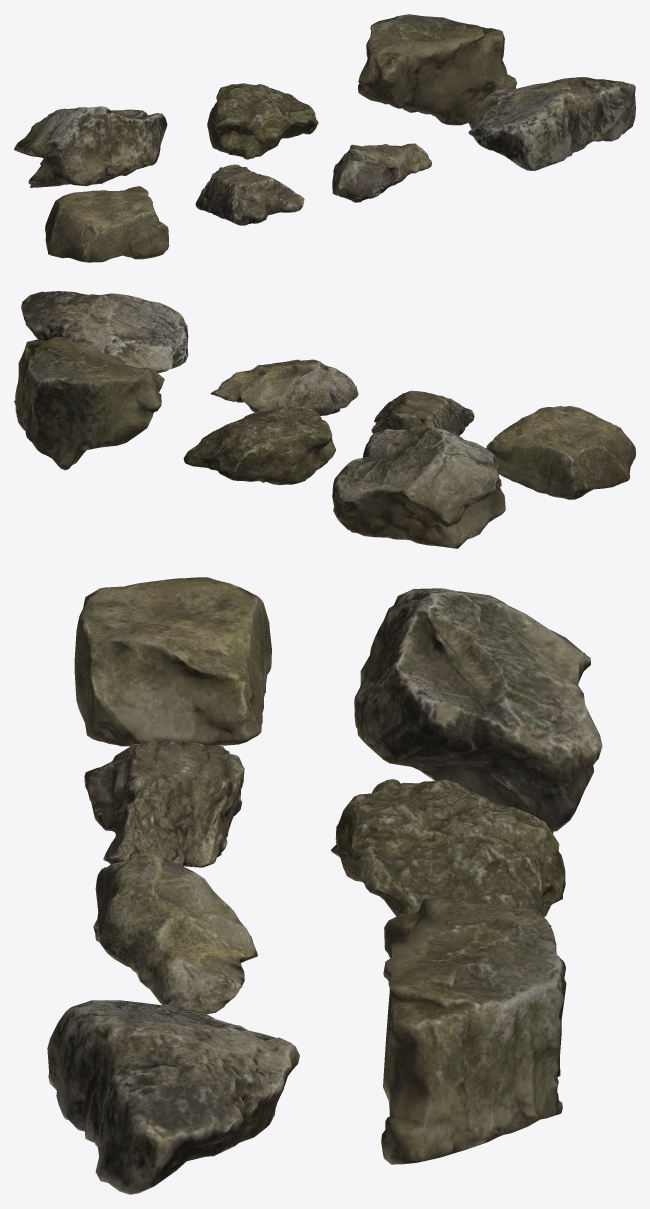
Rendered from rock_moss_set_02.glb.
3 renders of one model, top to bottom at view 1: azimuth 30°, elevation 25°; view 2: azimuth 150°, elevation 25°; view 3: azimuth 270°, elevation 25°, orthographic. The views are drawn at different scales.
Visible parts, largest first — view 1: rock_moss_set_02_rock13, rock_moss_set_02_rock10, rock_moss_set_02_rock11, rock_moss_set_02_rock07, rock_moss_set_02_rock12, rock_moss_set_02_rock08, rock_moss_set_02_rock09; view 2: rock_moss_set_02_rock11, rock_moss_set_02_rock13, rock_moss_set_02_rock07, rock_moss_set_02_rock10, rock_moss_set_02_rock12, rock_moss_set_02_rock09, rock_moss_set_02_rock08; view 3: rock_moss_set_02_rock13, rock_moss_set_02_rock11, rock_moss_set_02_rock10, rock_moss_set_02_rock07, rock_moss_set_02_rock12, rock_moss_set_02_rock09, rock_moss_set_02_rock08.
Boxes of the visible parts, left/top/right/bottom form: rock_moss_set_02_rock13: left=358, top=14, right=516, bottom=125; rock_moss_set_02_rock10: left=468, top=77, right=635, bottom=170; rock_moss_set_02_rock11: left=14, top=106, right=167, bottom=187; rock_moss_set_02_rock07: left=45, top=186, right=169, bottom=262; rock_moss_set_02_rock12: left=207, top=83, right=318, bottom=159; rock_moss_set_02_rock08: left=195, top=164, right=304, bottom=225; rock_moss_set_02_rock09: left=332, top=143, right=431, bottom=202; rock_moss_set_02_rock11: left=332, top=427, right=505, bottom=548; rock_moss_set_02_rock13: left=14, top=337, right=164, bottom=470; rock_moss_set_02_rock07: left=486, top=406, right=635, bottom=499; rock_moss_set_02_rock10: left=21, top=291, right=188, bottom=373; rock_moss_set_02_rock12: left=183, top=406, right=335, bottom=485; rock_moss_set_02_rock09: left=210, top=359, right=358, bottom=415; rock_moss_set_02_rock08: left=371, top=390, right=474, bottom=435; rock_moss_set_02_rock13: left=381, top=895, right=566, bottom=1164; rock_moss_set_02_rock11: left=354, top=588, right=602, bottom=833; rock_moss_set_02_rock10: left=47, top=1000, right=299, bottom=1194; rock_moss_set_02_rock07: left=74, top=577, right=271, bottom=746; rock_moss_set_02_rock12: left=331, top=779, right=565, bottom=926; rock_moss_set_02_rock09: left=93, top=851, right=257, bottom=1013; rock_moss_set_02_rock08: left=84, top=741, right=244, bottom=867.
Size of the model in its own units: 8.28 by 1.37 by 3.41.
Materials: 1 (1 with a texture image).
